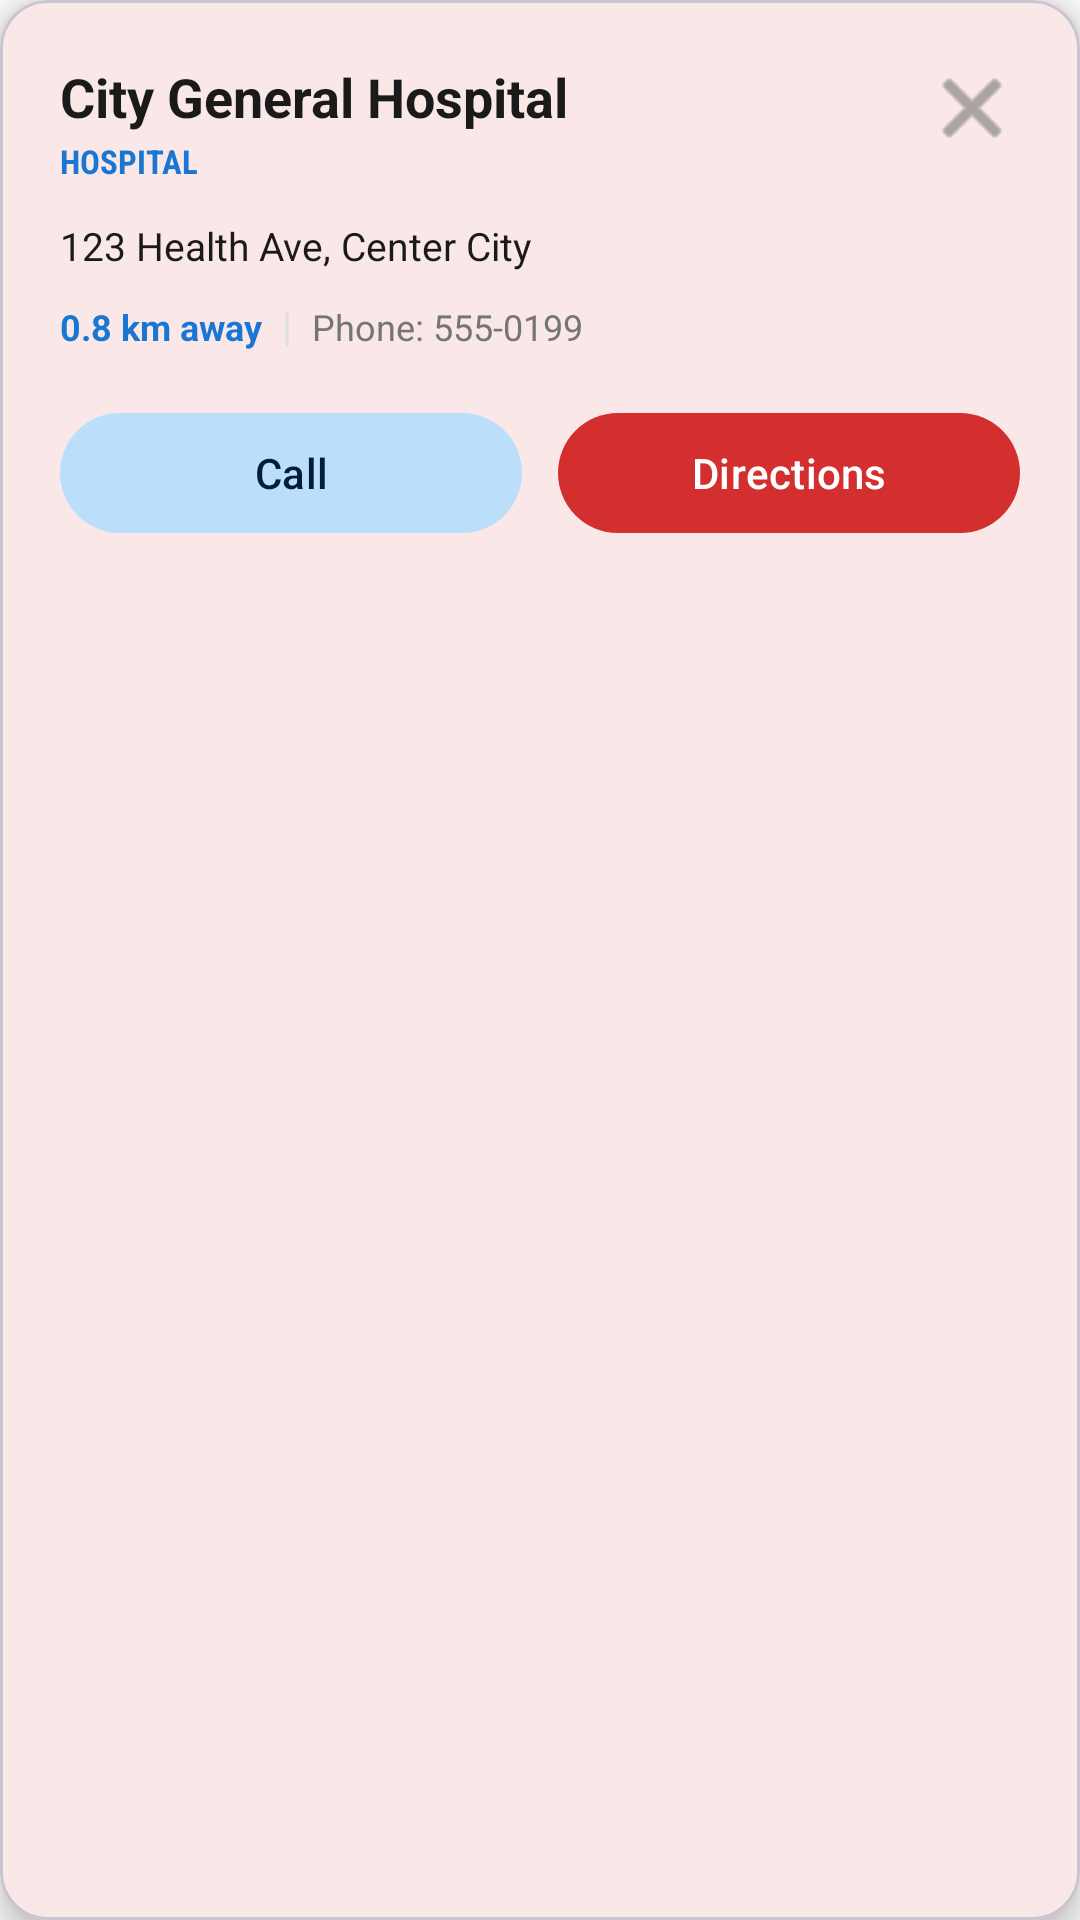

Named icons in this screenshot (1080w x 1920h) and their bounding boxes, (x1, y1, x2, y2):
Close details: (942, 78, 1002, 138)
